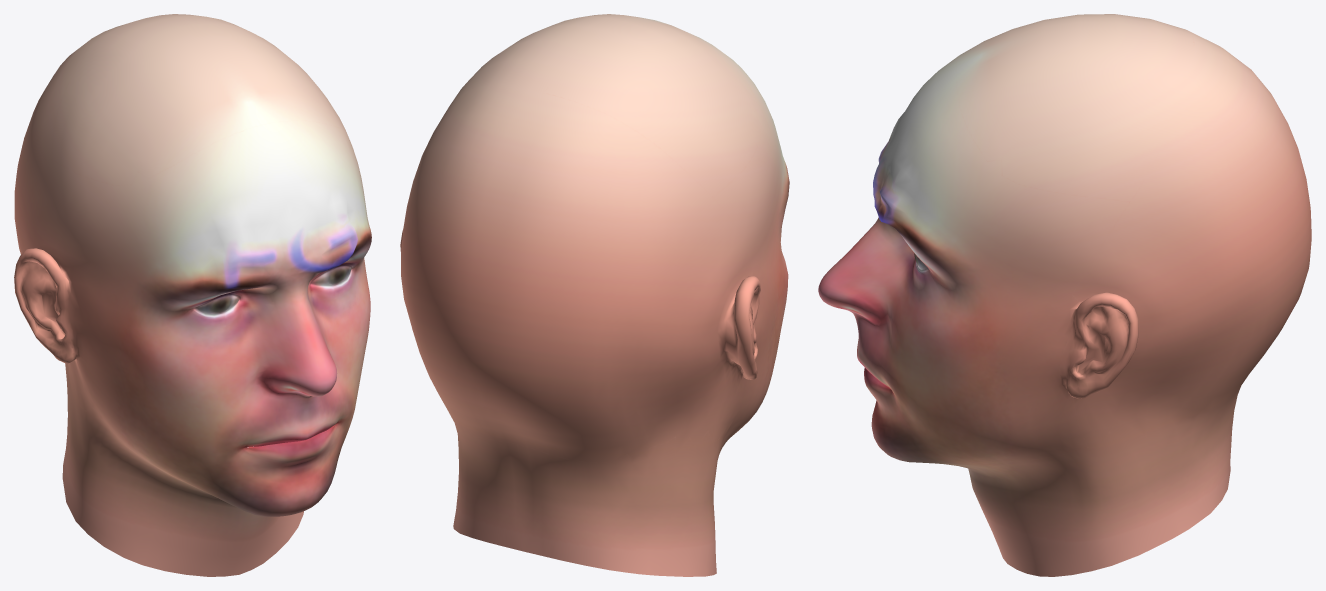
Rendered from avg_anyrace_male_01.obj.
3 renders of one model, left to right at view 1: azimuth 30°, elevation 25°; view 2: azimuth 150°, elevation 25°; view 3: azimuth 270°, elevation 25°, orthographic. The views are drawn at different scales.
Parts seen in each view (by area): view 1: HeadHires; view 2: HeadHires; view 3: HeadHires.
Part boxes in pixels (<box>): HeadHires: <box>14,14,371,576</box>; HeadHires: <box>400,14,789,576</box>; HeadHires: <box>818,14,1311,576</box>.
Bounding box in the file's own units: 189 × 283 × 242.
1 material, 1 textured.
